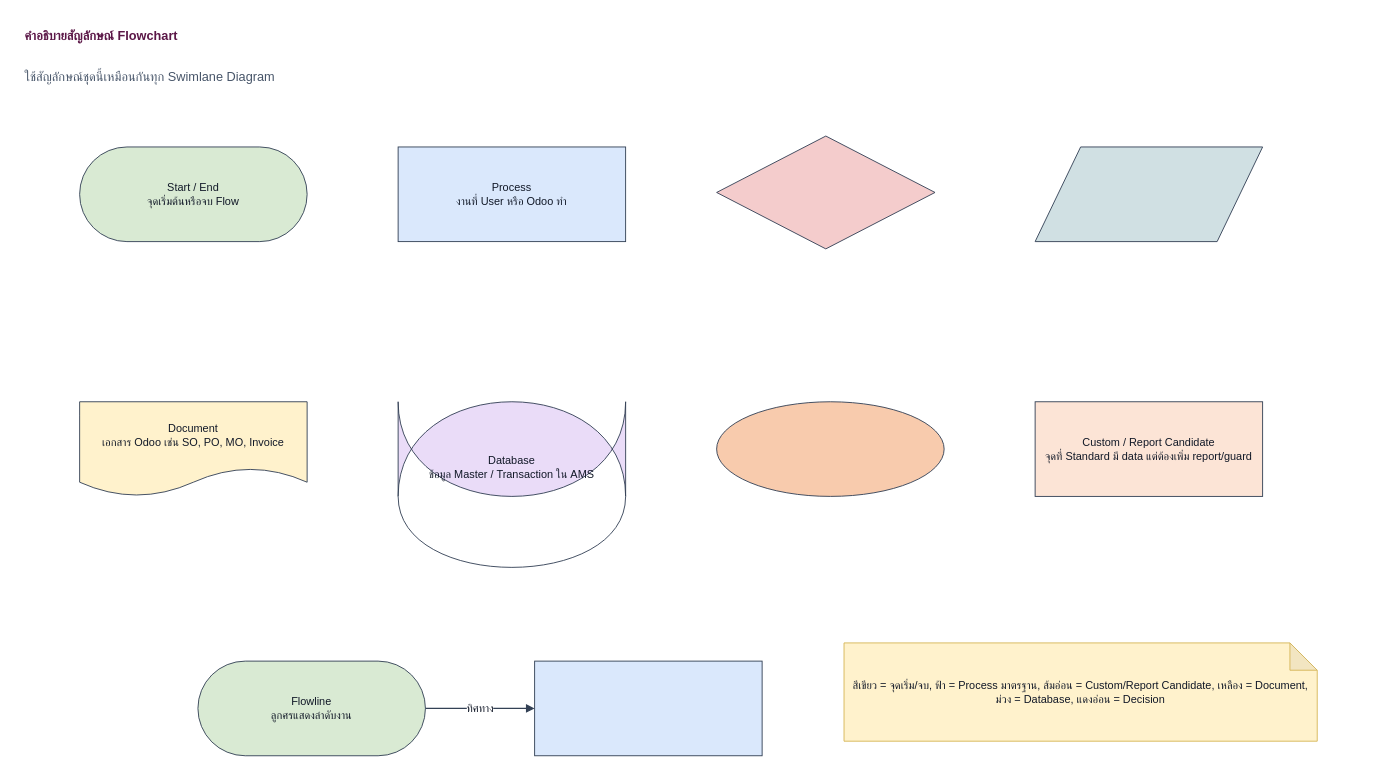
The diagram is 1396 pixels wide and 772 high, and some of its shapes have lost their labels. Here are the shapes that lost their labels. From the top down, the centre of each, then its label:
pixel 825 192: Decision เงื่อนไข Yes/No หรือเลือกทาง
pixel 1148 194: Input / Output ข้อมูลเข้า / ผลลัพธ์ออก
pixel 830 448: Connector จุดเชื่อม flow ข้าม lane/page
pixel 648 708: ขั้นตอนถัดไป
